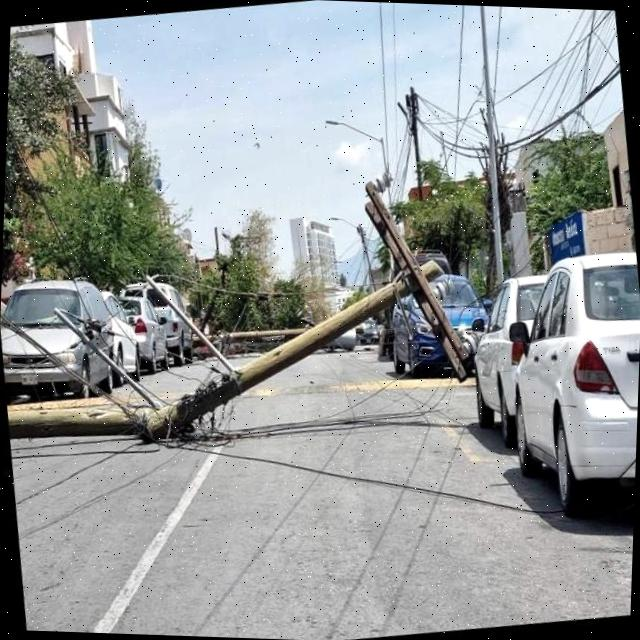Broken Pole: (6, 171, 468, 441)
